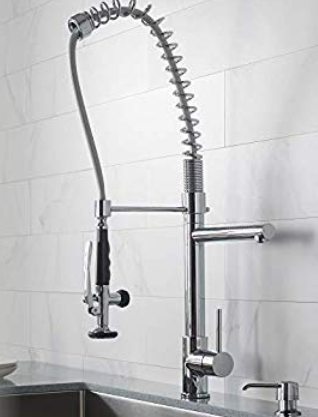Deck Faucet: (39, 1, 303, 413)
